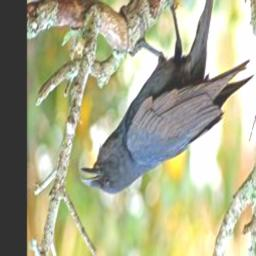Crow: (79, 0, 256, 196)
